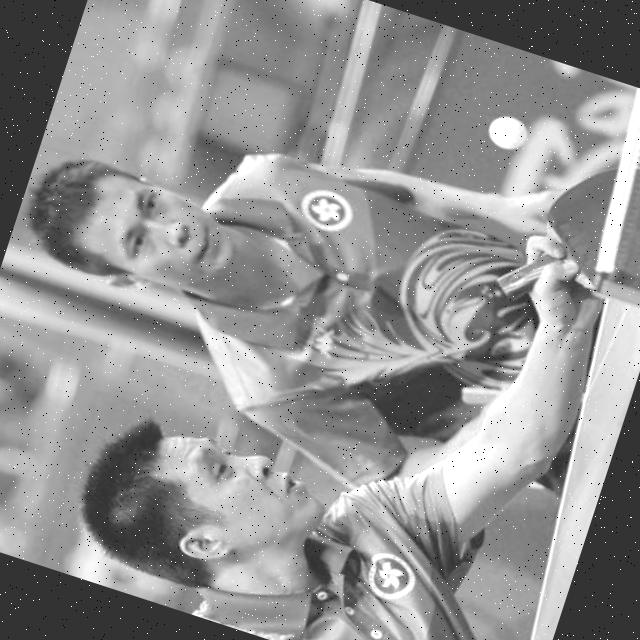ping-pong-ball: (481, 107, 533, 155)
